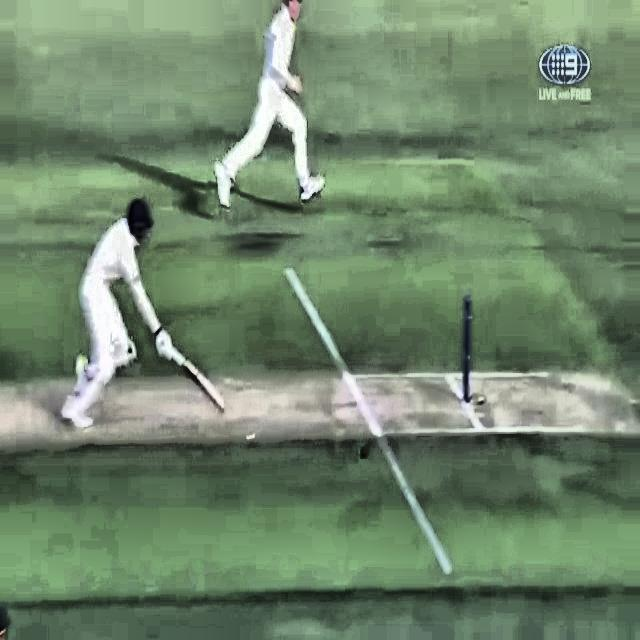Bat: (148, 328, 230, 417)
Pitch_Line: (283, 264, 455, 576)
Undis_Wicket: (457, 294, 482, 407)
